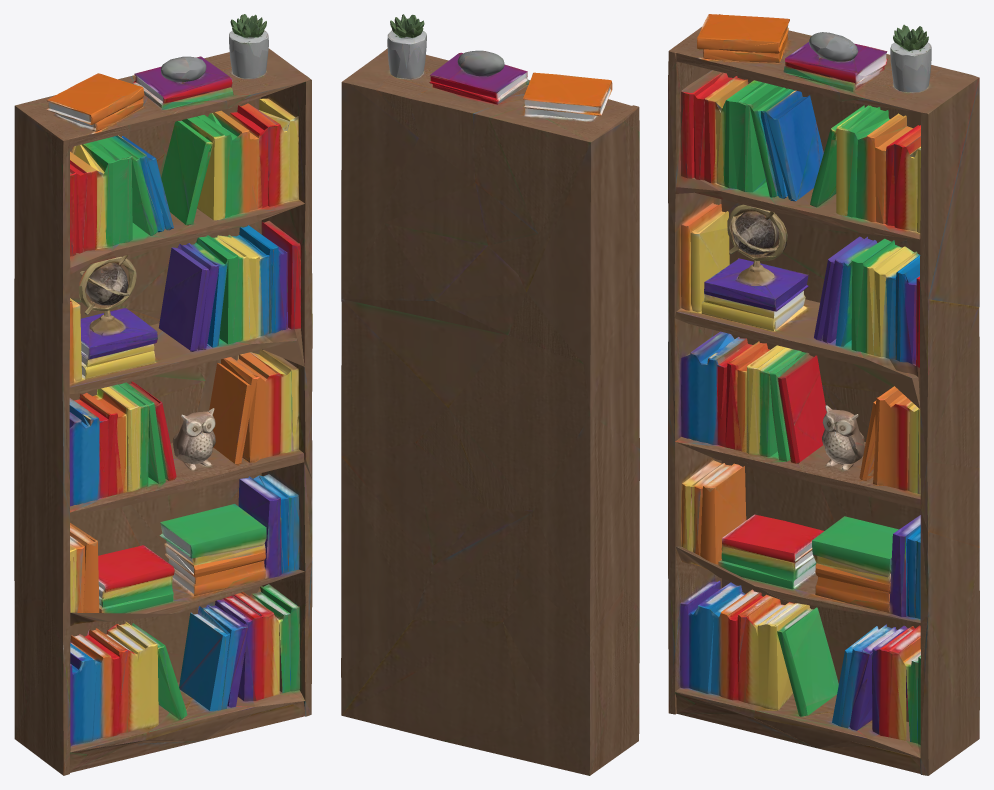
The model's file is bookshelf_full.glb.
3 views of the same model, side by side, from view 1: azimuth 30°, elevation 25°; view 2: azimuth 150°, elevation 25°; view 3: azimuth 330°, elevation 25° (orthographic). The views are drawn at different scales.
Visible parts, largest first — view 1: Mesh_0; view 2: Mesh_0; view 3: Mesh_0.
Part boxes in pixels (x1,y1,x2,y2): Mesh_0: (14, 14, 312, 775); Mesh_0: (341, 14, 639, 775); Mesh_0: (668, 14, 979, 775).
Size of the model in its own units: 0.837 by 2.2 by 0.2929.
1 material, 1 textured.
